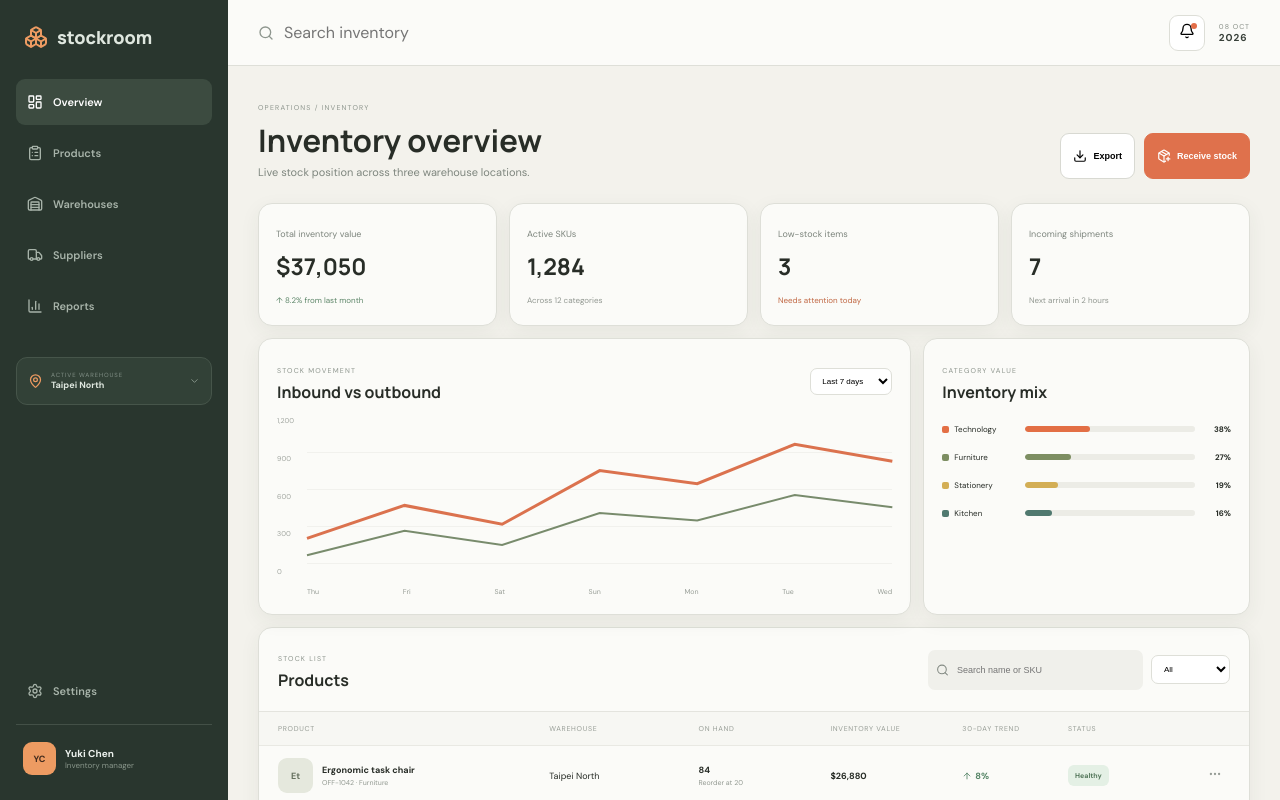
Inventory dashboard › filters low-stock products
This screenshot has width=1280, height=800.
Check: the text "Ergonomic task chair" is shown, box [322,764,415,776]
Select "Low stock" in the dropdown named "Filter inventory" at (1190, 670), box [1151,655,1230,684]
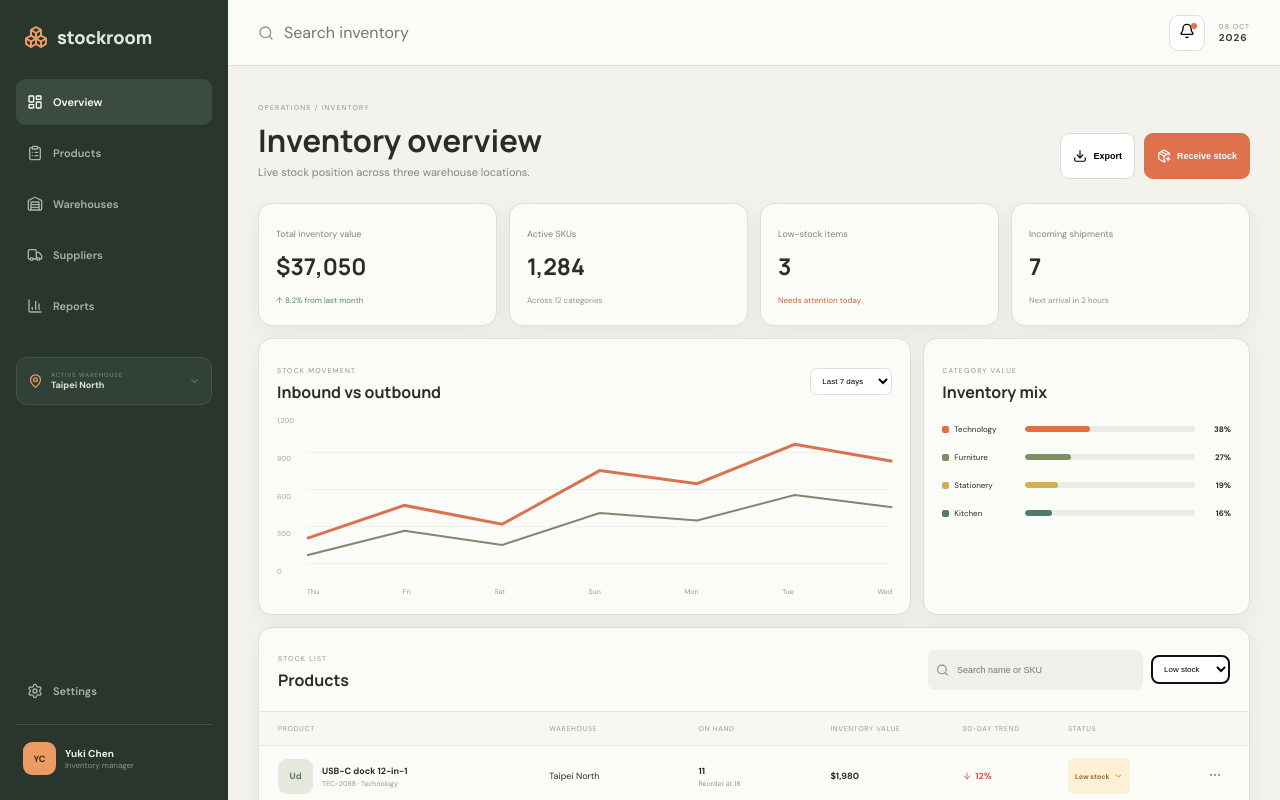
Check: the text "USB-C dock 12-in-1" is shown, box [322,764,408,776]
Check: the text "Ergonomic task chair" is gone
